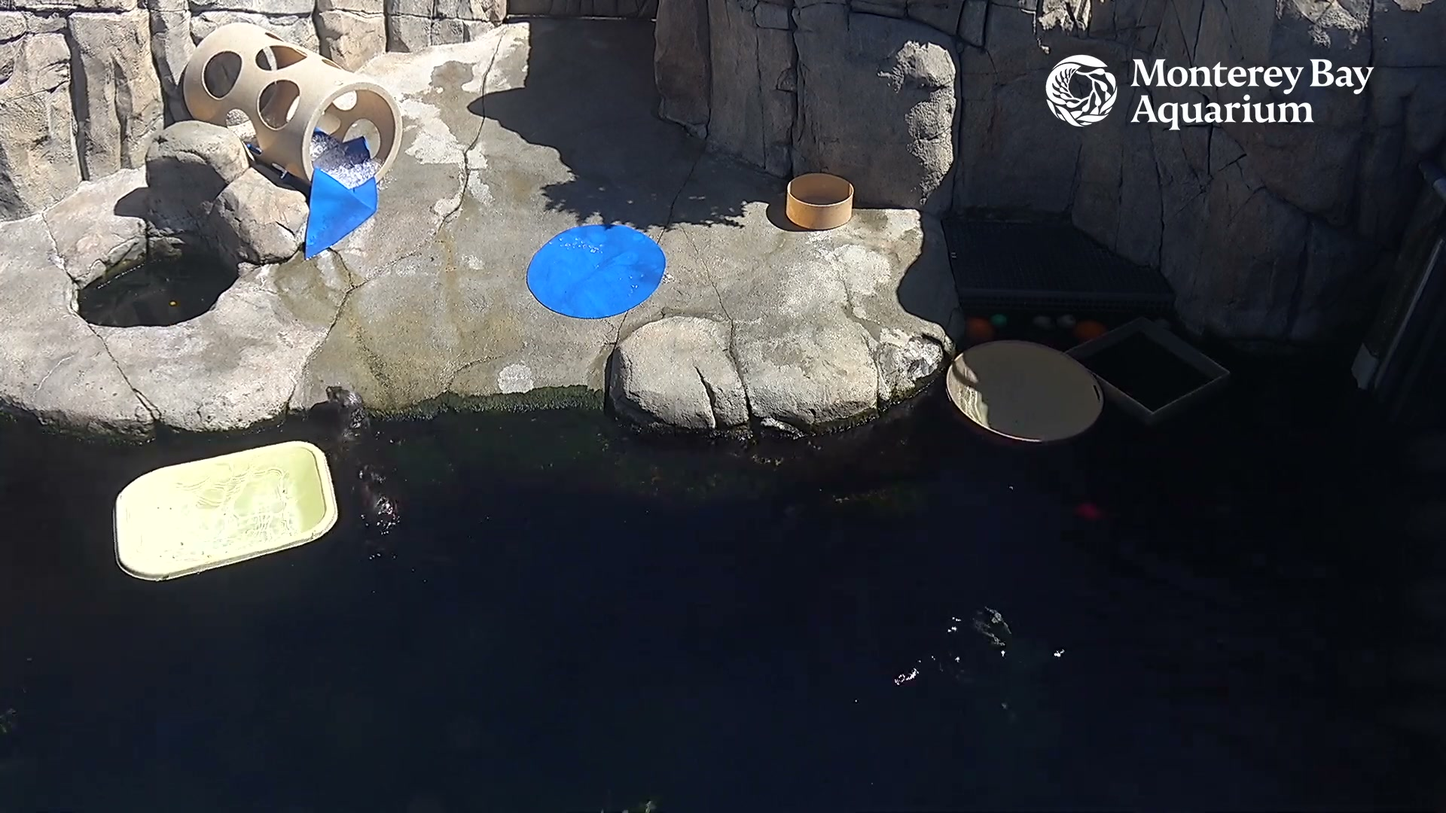Southern Sea Otter: (313, 367, 409, 542)
